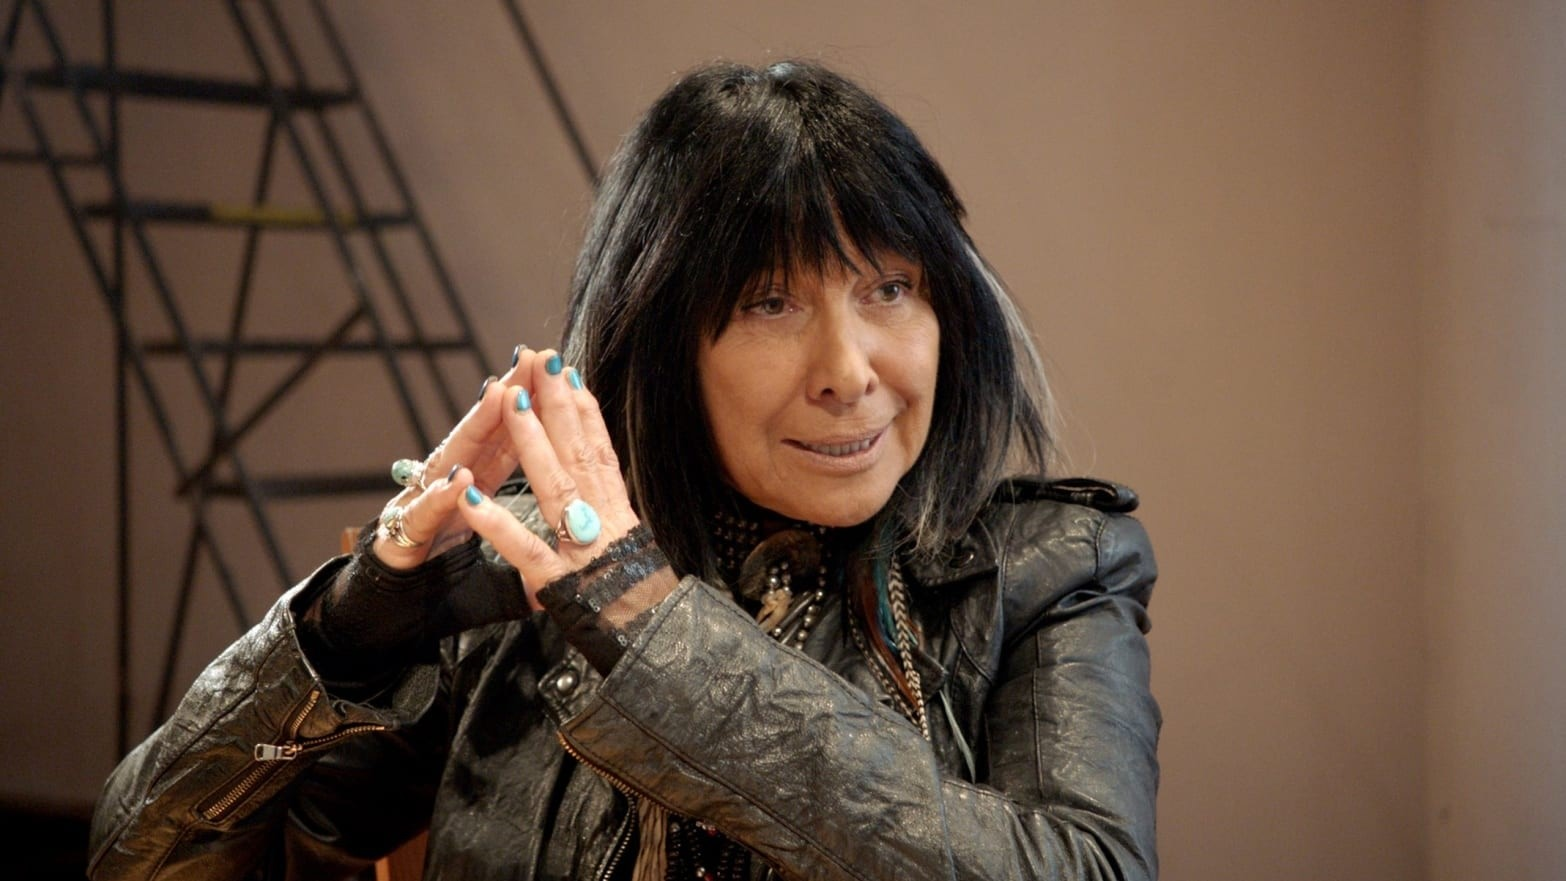face_no_mask: (671, 111, 959, 539)
